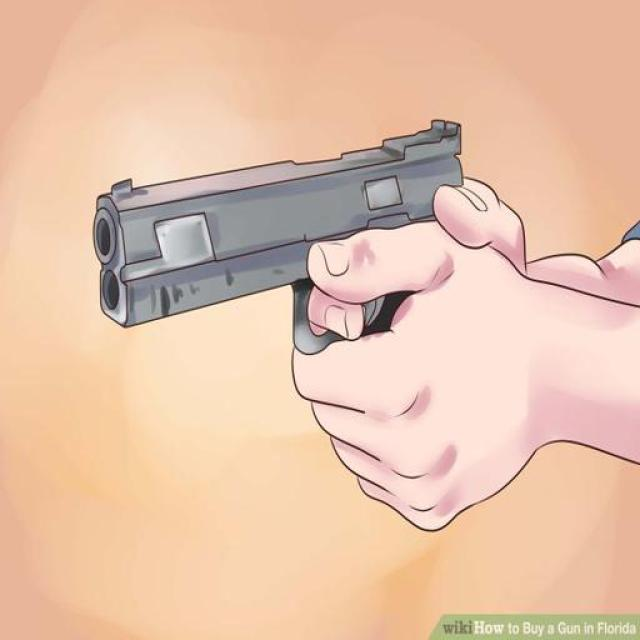pistol: (91, 117, 463, 356)
